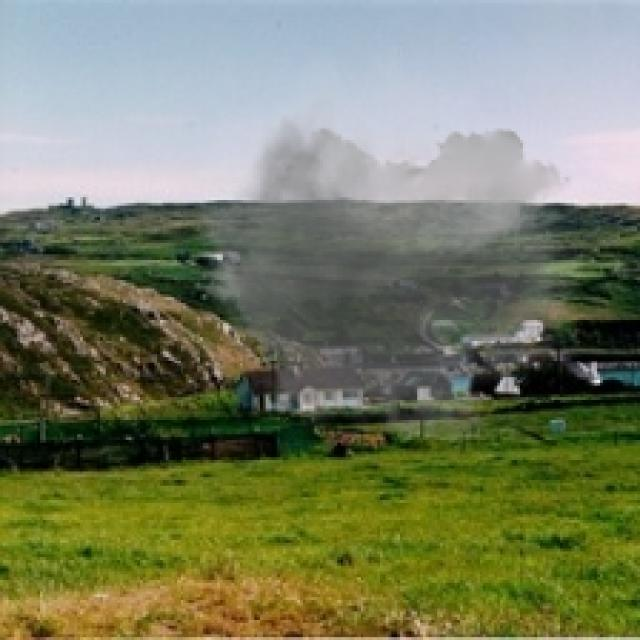Smoke: (180, 43, 586, 463)
